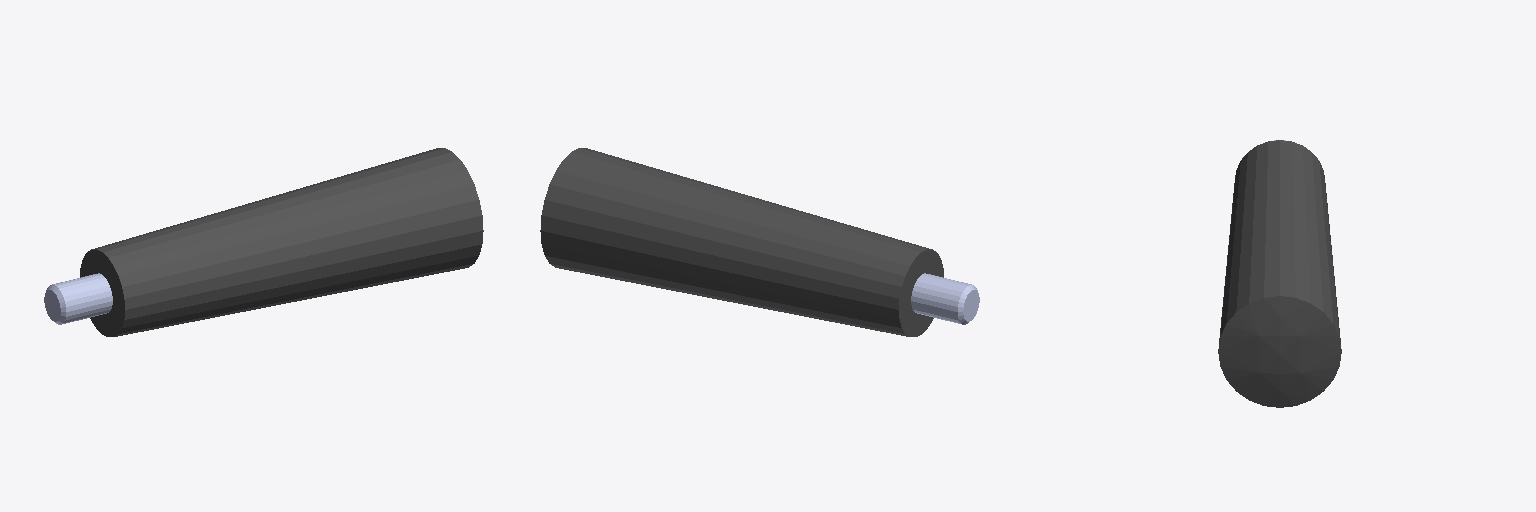
File: ganter_gn_203-15-m5.obj
3 renders of one model, left to right at view 1: azimuth 30°, elevation 25°; view 2: azimuth 150°, elevation 25°; view 3: azimuth 270°, elevation 25°, orthographic.
Visible parts, largest first — view 1: ganter_gn_203-15-m5_1; view 2: ganter_gn_203-15-m5_1; view 3: ganter_gn_203-15-m5_1.
Boxes of the visible parts, <box> form: ganter_gn_203-15-m5_1: <box>44,148,483,336</box>; ganter_gn_203-15-m5_1: <box>540,148,979,336</box>; ganter_gn_203-15-m5_1: <box>1218,140,1341,407</box>.
Size of the model in its own units: 57 by 15 by 15.